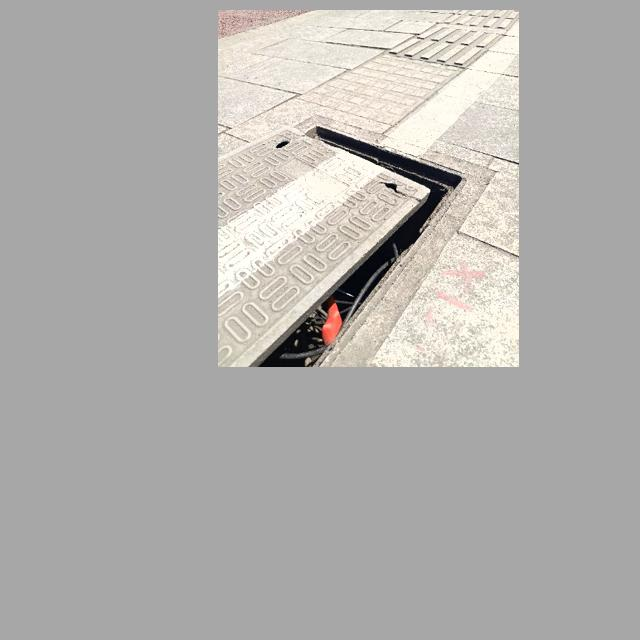uncovered: (221, 122, 468, 367)
